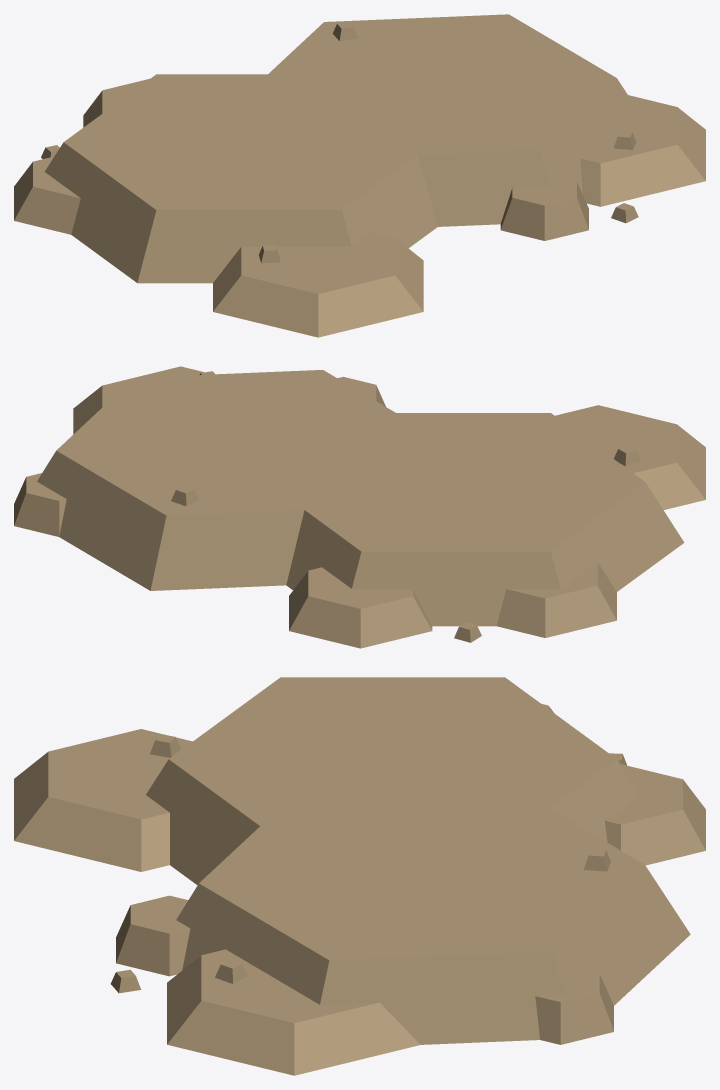
Rendered from rock-flat.glb.
3 renders of one model, top to bottom at view 1: azimuth 30°, elevation 25°; view 2: azimuth 150°, elevation 25°; view 3: azimuth 270°, elevation 25°, orthographic. The views are drawn at different scales.
Bounding box in the file's own units: 1.79 × 0.195 × 1.45.
